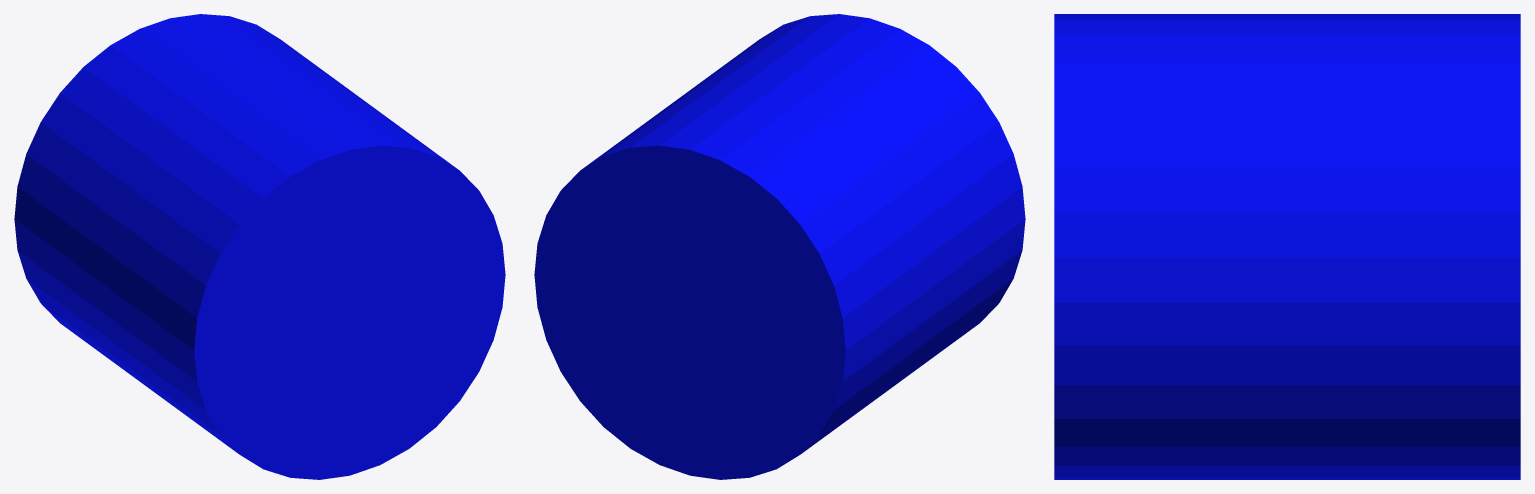
The model's file is PlayerBeam.obj.
3 renders of one model, left to right at view 1: azimuth 30°, elevation 25°; view 2: azimuth 150°, elevation 25°; view 3: azimuth 270°, elevation 25°, orthographic. The views are drawn at different scales.
Parts seen in each view (by area): view 1: 円柱; view 2: 円柱; view 3: 円柱.
Boxes of the visible parts, x1,y1,x2,y2 form: 円柱: (14, 14, 505, 479); 円柱: (534, 14, 1025, 479); 円柱: (1054, 14, 1520, 479).
Size of the model in its own units: 2 by 2 by 2.
